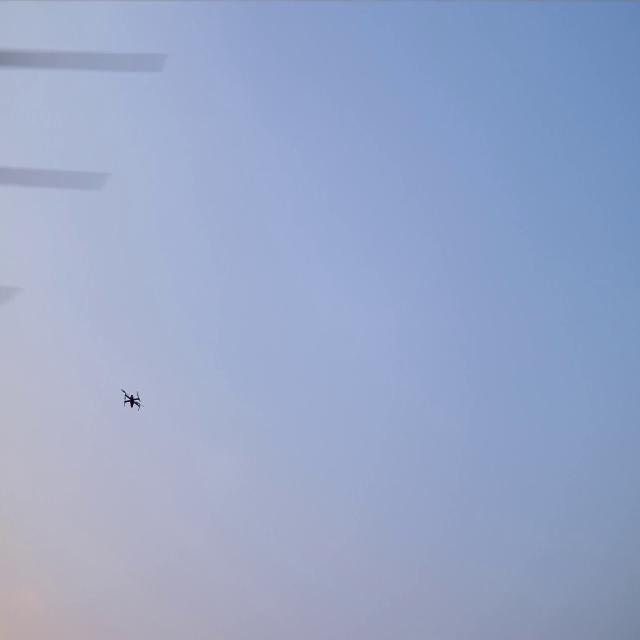UAV: (119, 387, 145, 412)
